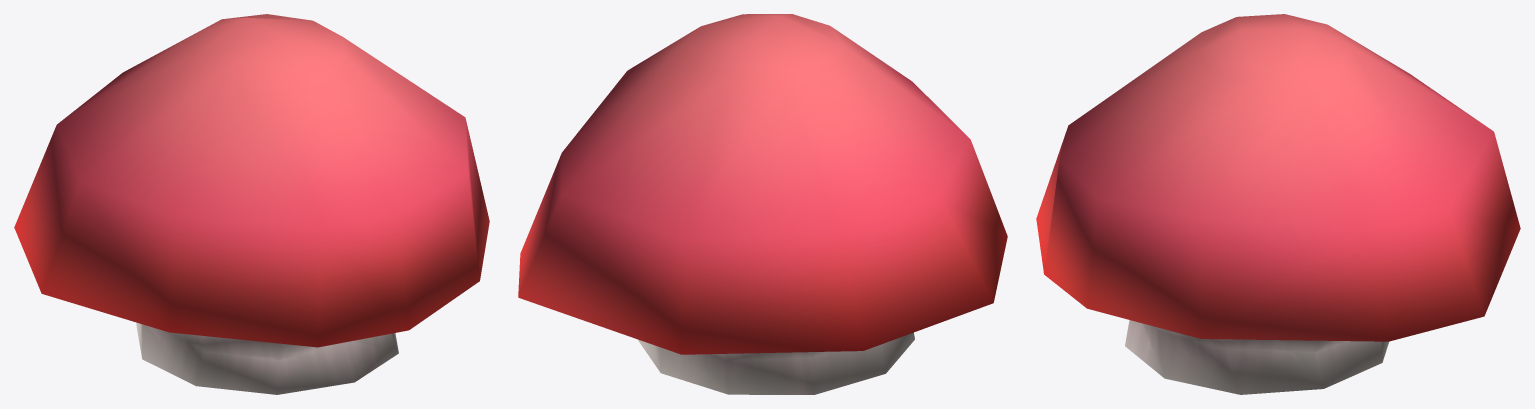
File: mushroom.fbx
3 renders of one model, left to right at view 1: azimuth 30°, elevation 25°; view 2: azimuth 150°, elevation 25°; view 3: azimuth 270°, elevation 25°, orthographic. The views are drawn at different scales.
Parts seen in each view (by area): view 1: mushroom; view 2: mushroom; view 3: mushroom.
Part boxes in pixels (x1,y1,x2,y2): mushroom: (14,14,489,394); mushroom: (518,14,1007,394); mushroom: (1036,14,1520,394).
Bounding box in the file's own units: 2.74 × 1.95 × 2.76.
Materials: 1 (1 with a texture image).
